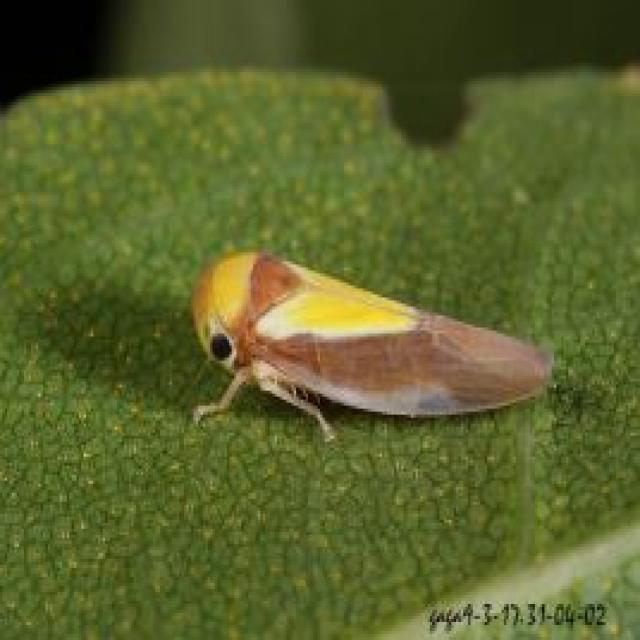Yechan: (165, 250, 570, 451)
